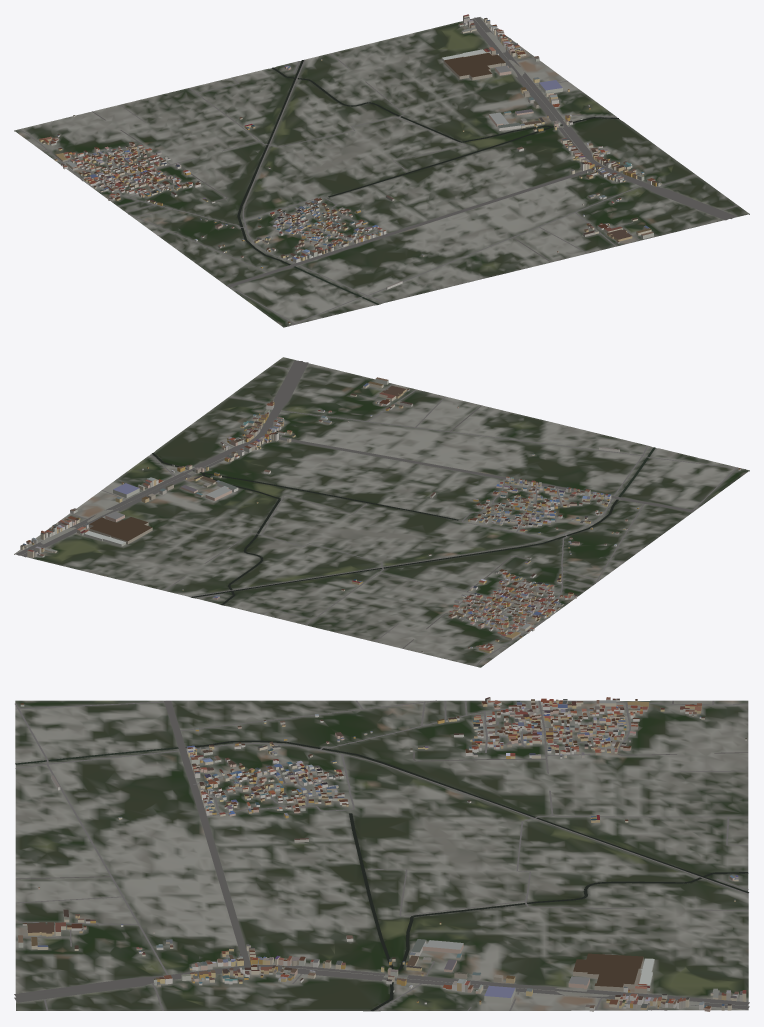
3 views of the same model, one above another, from view 1: azimuth 30°, elevation 25°; view 2: azimuth 150°, elevation 25°; view 3: azimuth 270°, elevation 25° (orthographic). The views are drawn at different scales.
Parts seen in each view (by area): view 1: ground, buildings, roads, water; view 2: ground, buildings, roads, water; view 3: ground, buildings, roads, water.
Boxes of the visible parts, x1,y1,x2,y2 form: ground: [14, 17, 749, 327]; buildings: [39, 14, 661, 324]; roads: [18, 17, 738, 326]; water: [237, 60, 618, 304]; ground: [14, 357, 749, 667]; buildings: [20, 377, 740, 653]; roads: [16, 360, 745, 666]; water: [152, 447, 655, 605]; ground: [15, 700, 748, 1011]; buildings: [18, 697, 746, 1011]; roads: [14, 700, 749, 1010]; water: [15, 740, 748, 1011].
Size of the model in its own units: 1413 by 24.16 by 1408.
